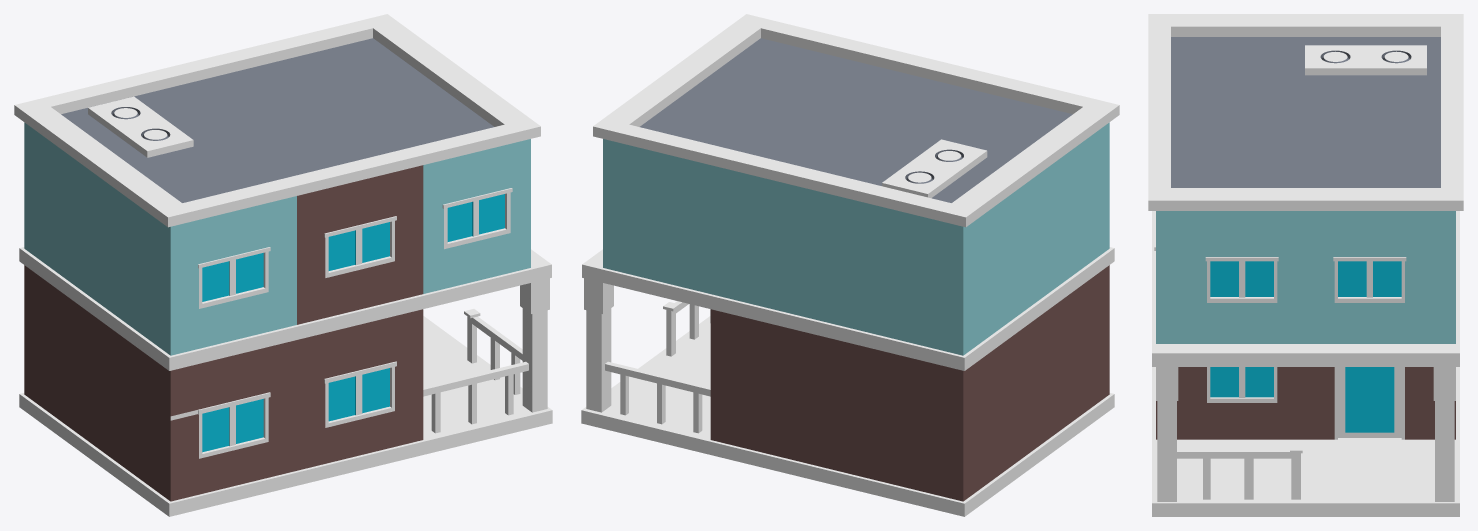
The model's file is house1.fbx.
3 renders of one model, left to right at view 1: azimuth 30°, elevation 25°; view 2: azimuth 150°, elevation 25°; view 3: azimuth 270°, elevation 25°, orthographic. The views are drawn at different scales.
Visible parts, largest first — view 1: house1; view 2: house1; view 3: house1.
Part boxes in pixels (x1=…): house1: x1=14, y1=14, x2=552, y2=516; house1: x1=581, y1=14, x2=1119, y2=516; house1: x1=1148, y1=14, x2=1463, y2=516.
Size of the model in its own units: 610 by 455 by 420.
